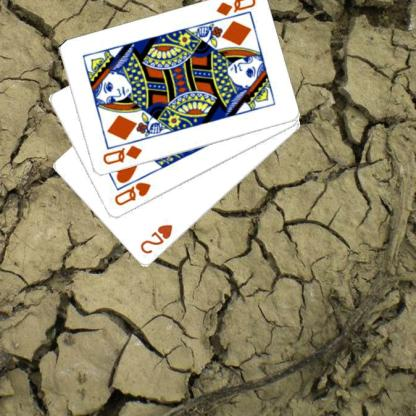2H: (137, 222, 174, 256)
QD: (100, 142, 143, 166), (213, 0, 257, 17)
QH: (111, 180, 153, 208)
